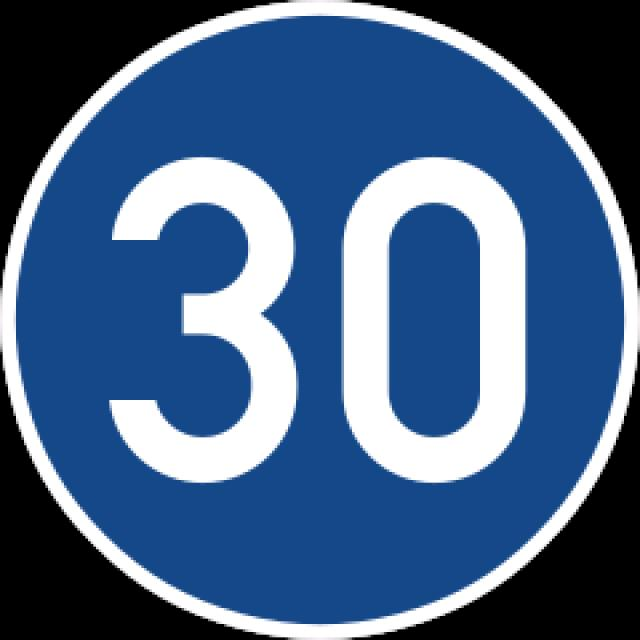Speed Limit -30-: (105, 151, 534, 486)
